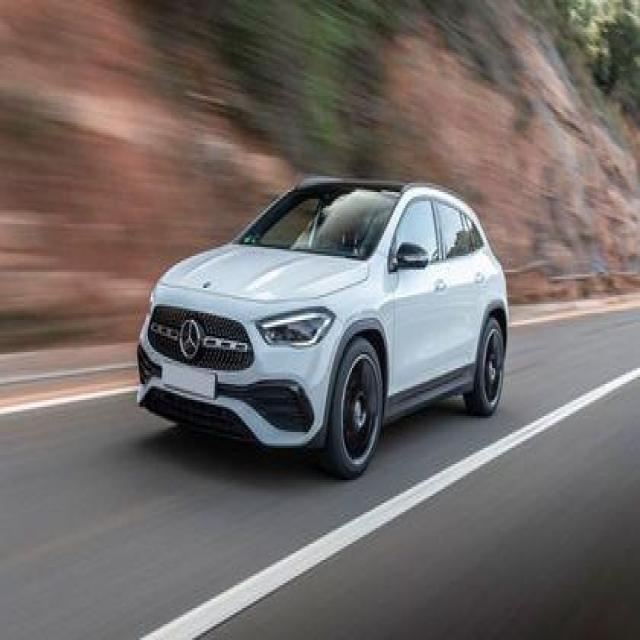cars23: (135, 173, 511, 480)
